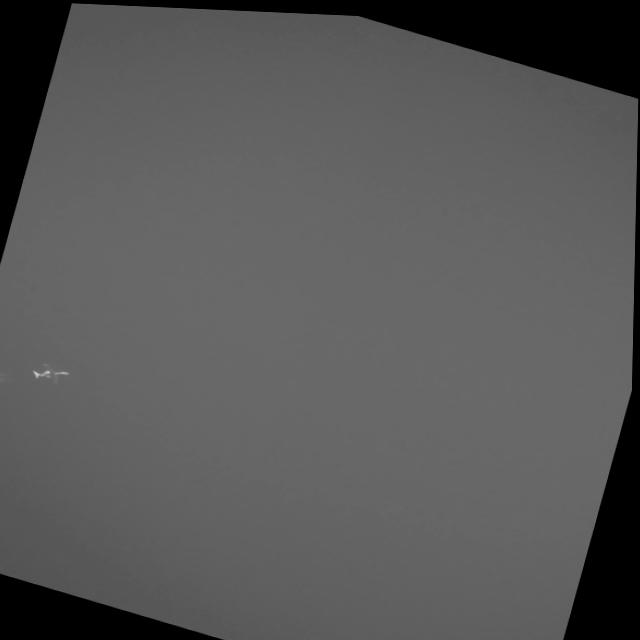aeroplane: (25, 356, 74, 391)
